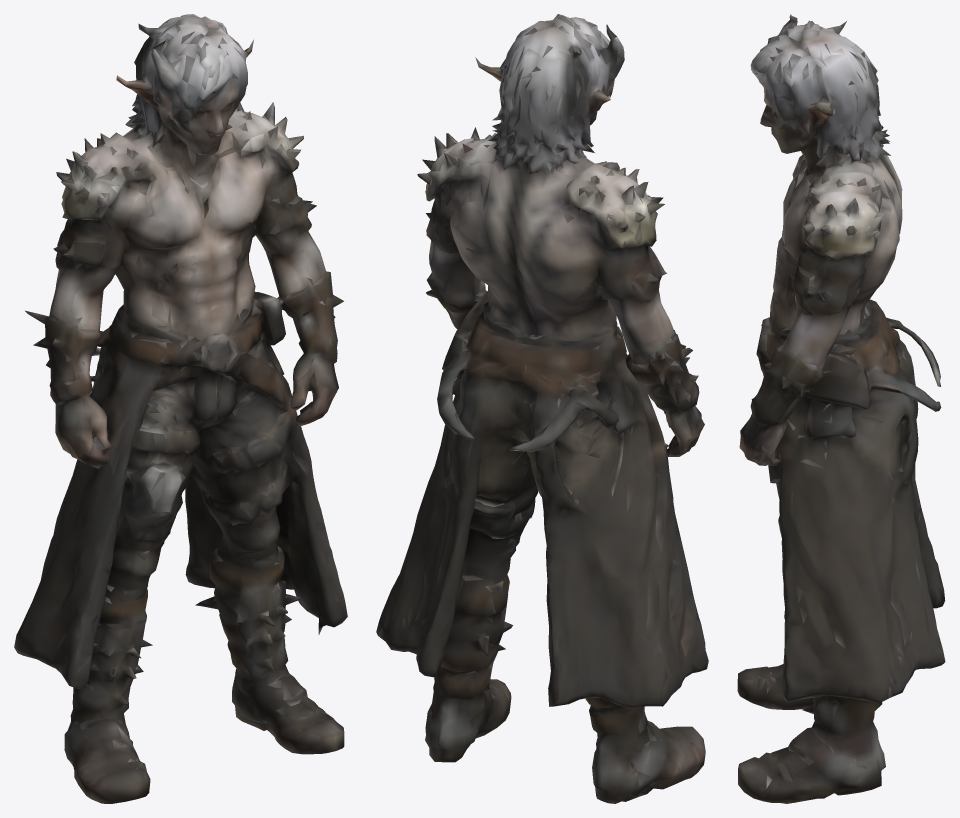
File: Arry (2)_final.glb
3 renders of one model, left to right at view 1: azimuth 30°, elevation 25°; view 2: azimuth 150°, elevation 25°; view 3: azimuth 270°, elevation 25°, orthographic. The views are drawn at different scales.
Parts seen in each view (by area): view 1: Mesh1.0; view 2: Mesh1.0; view 3: Mesh1.0.
Boxes of the visible parts, x1=… form: Mesh1.0: x1=14, y1=14, x2=347, y2=803; Mesh1.0: x1=376, y1=14, x2=708, y2=803; Mesh1.0: x1=737, y1=14, x2=945, y2=803.
Bounding box in the file's own units: 0.8182 × 2 × 0.5233.
Materials: 1 (1 with a texture image).
